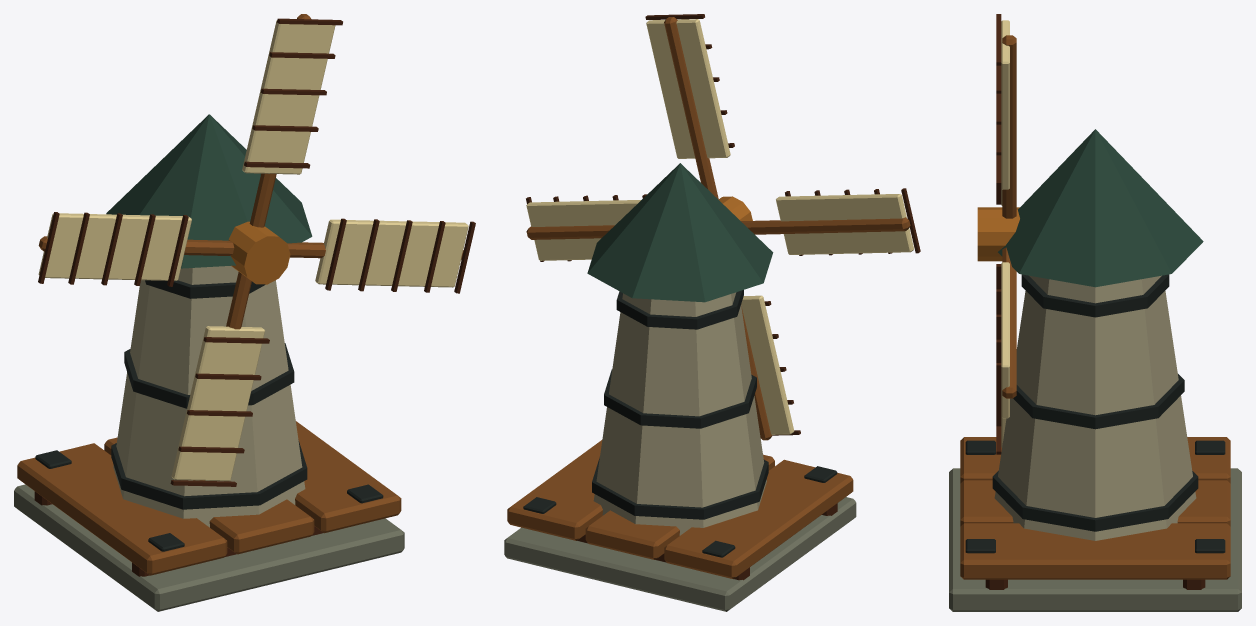
File: windmill.glb
The picture shows the model from 3 angles, left to right: view 1: azimuth 30°, elevation 25°; view 2: azimuth 150°, elevation 25°; view 3: azimuth 270°, elevation 25°; orthographic projection. The views are drawn at different scales.
Visible parts, largest first — view 1: windmill_body, Wind axle; view 2: windmill_body, Wind axle; view 3: windmill_body, Wind axle.
Part boxes in pixels (<box>): windmill_body: <box>14,114,404,611</box>; Wind axle: <box>38,14,475,486</box>; windmill_body: <box>504,163,856,611</box>; Wind axle: <box>526,14,920,440</box>; windmill_body: <box>949,129,1241,611</box>; Wind axle: <box>977,14,1019,454</box>.
Bounding box in the file's own units: 3.2 × 3.8 × 1.84.
